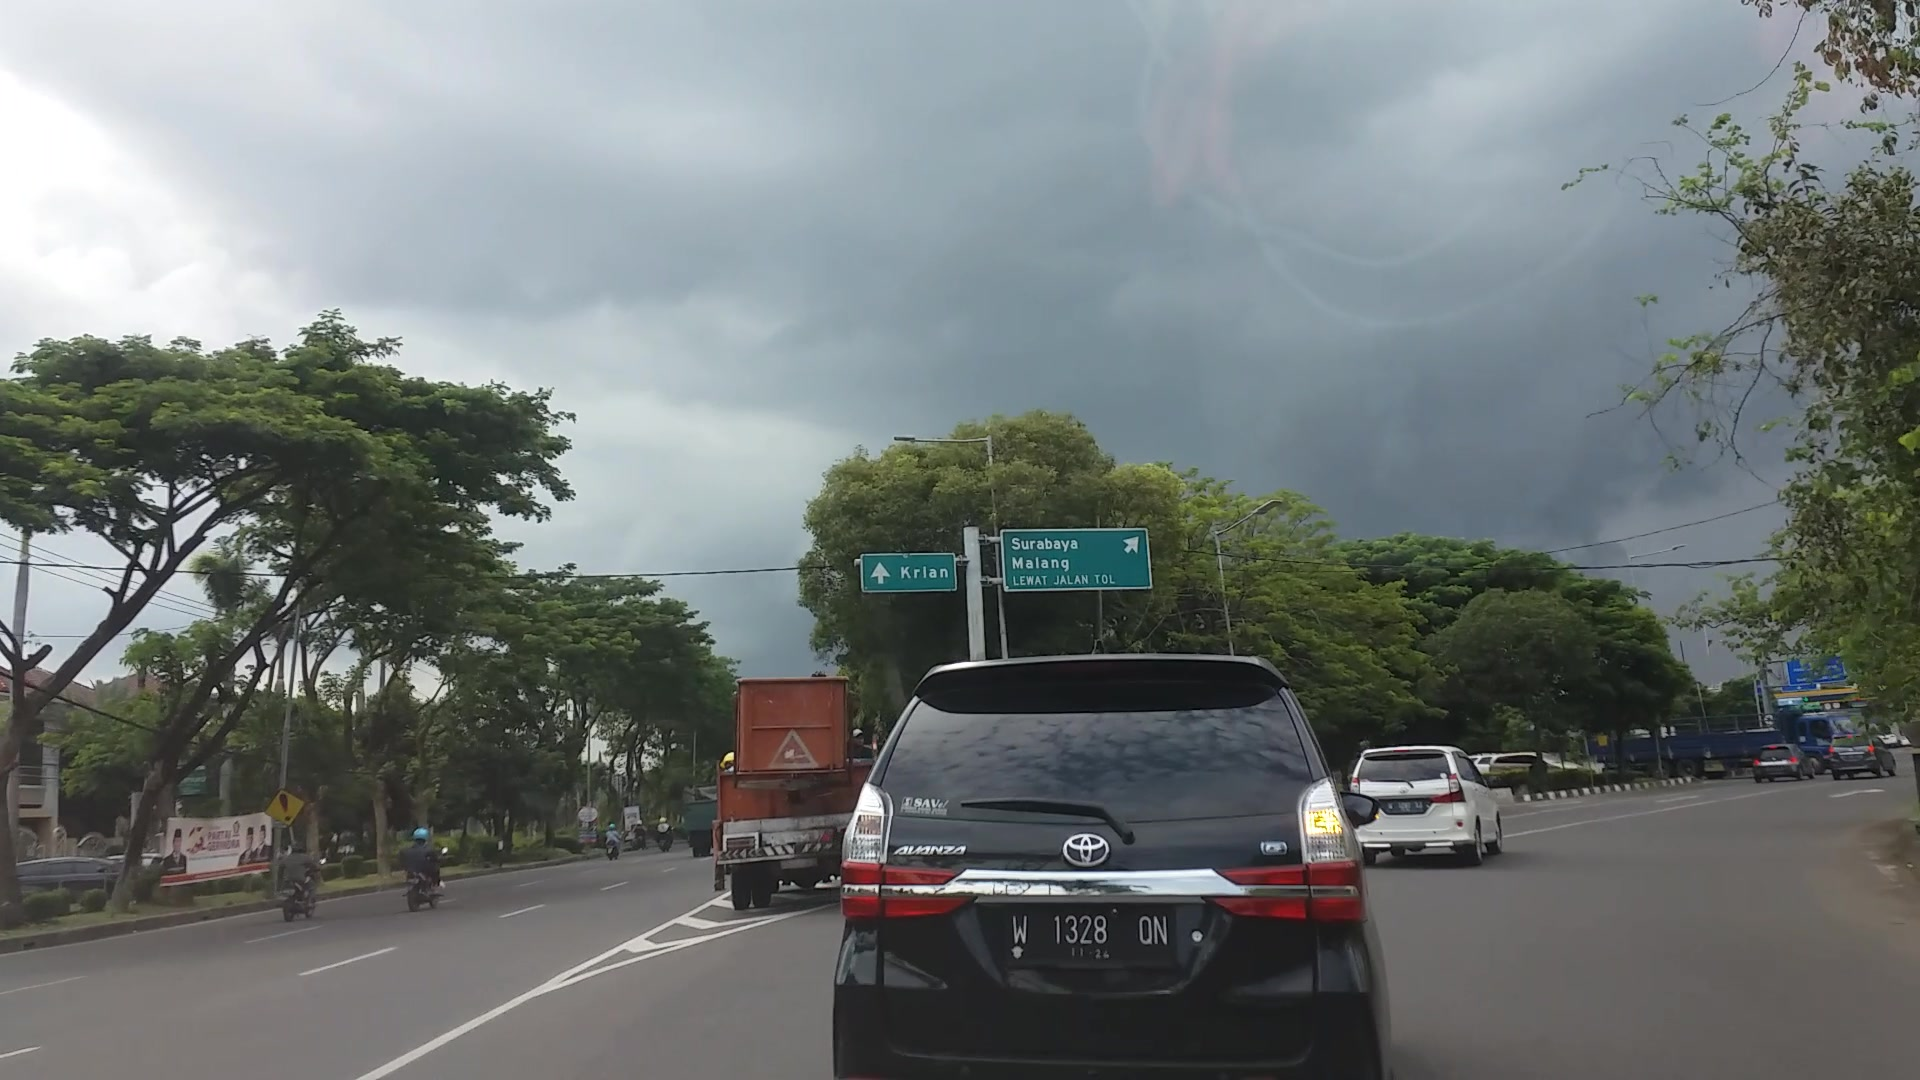plate_positive: (1007, 905, 1174, 963)
